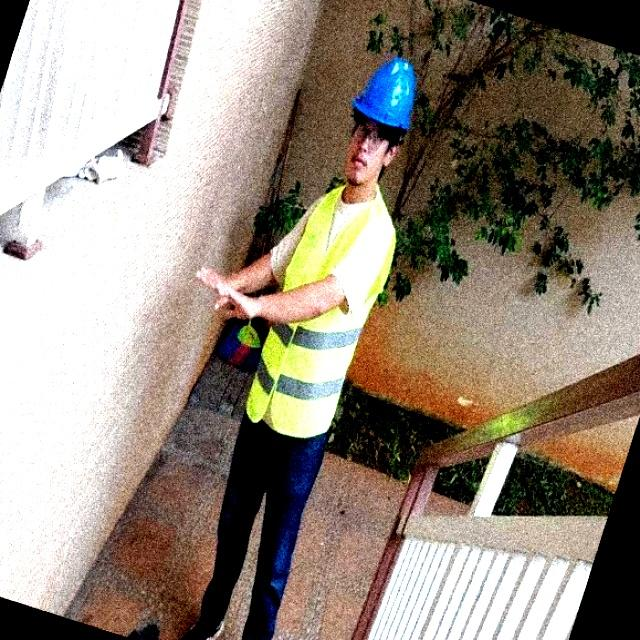Capacete: (352, 57, 416, 130)
Colete: (246, 187, 394, 437)
Pessoa: (183, 57, 416, 639)
